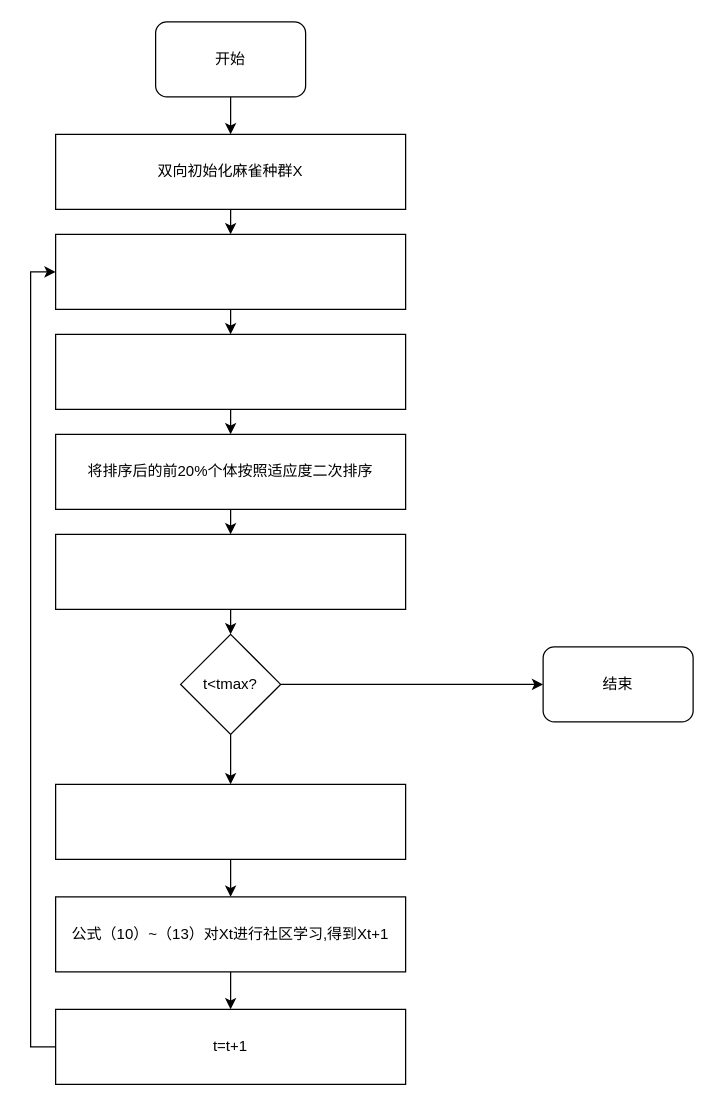
Some shapes in this 715 by 1106 pixel diagram are drawn without their labels. Each missing label, with the box of its shape:
将X整体按照约束违规度排序: (54, 333, 406, 409)
找到fg、fw、xb、xp和xw: (54, 533, 406, 609)
计算Xt的适应度和约束违规度: (54, 233, 406, 309)
采用公式（6）~（9）进行更新: (54, 783, 406, 859)
